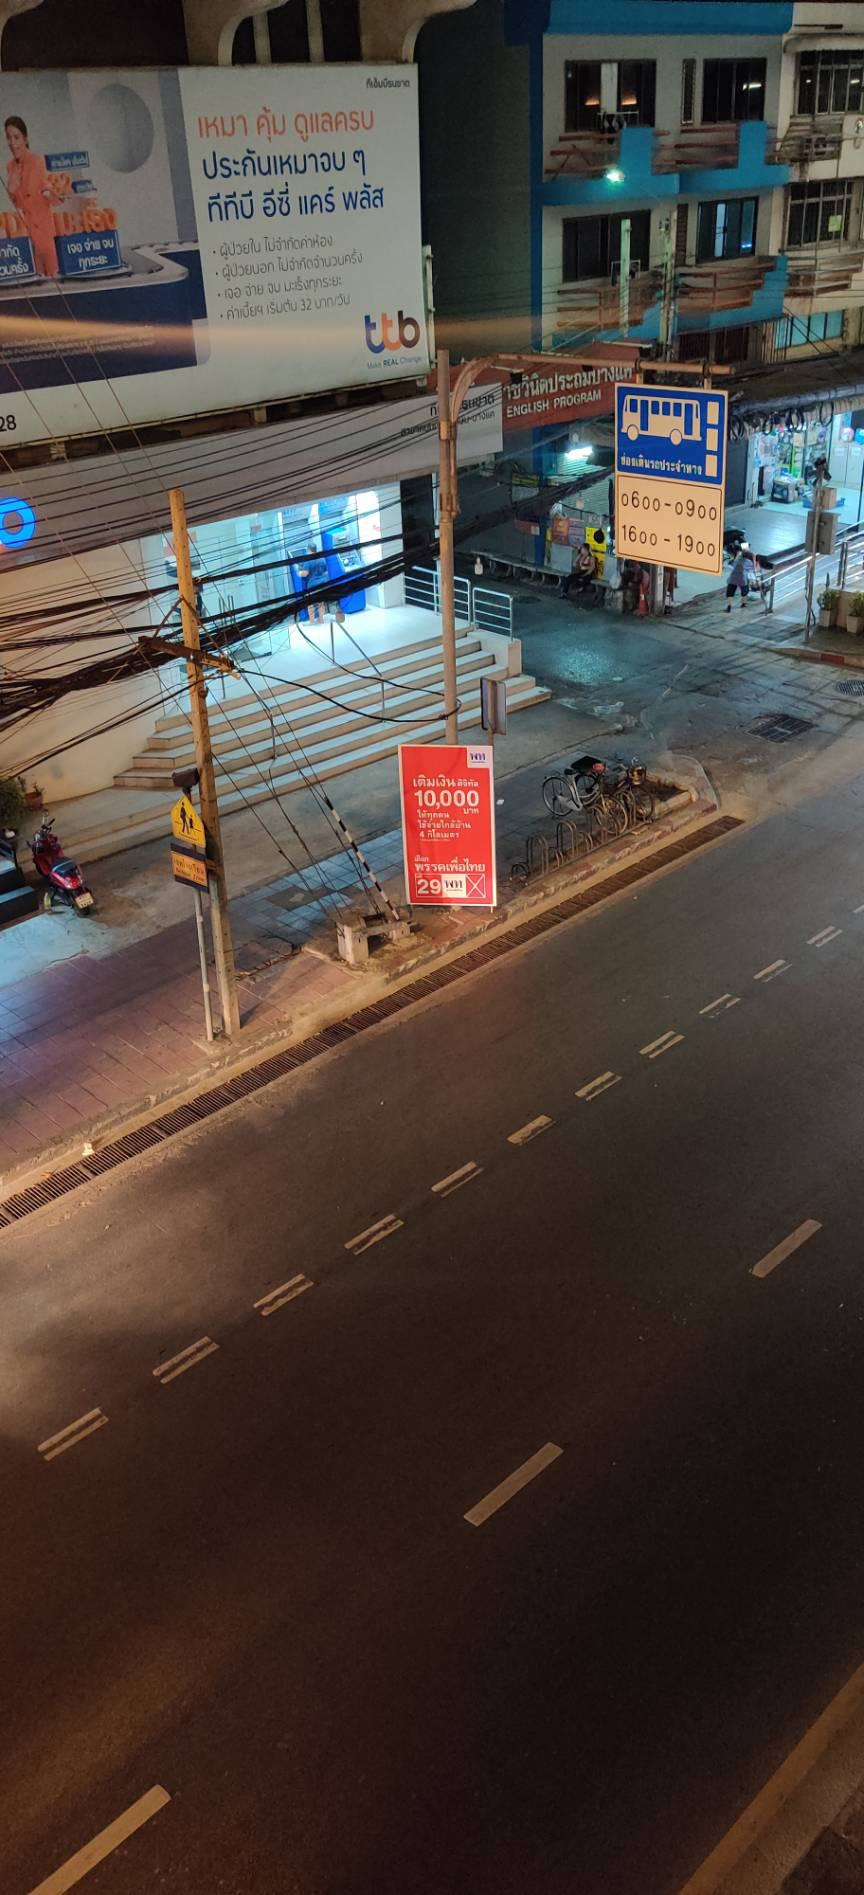Banner: (398, 744, 501, 921)
